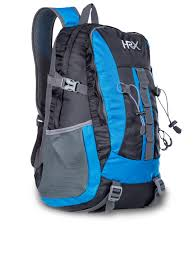backpack: (30, 2, 181, 213)
